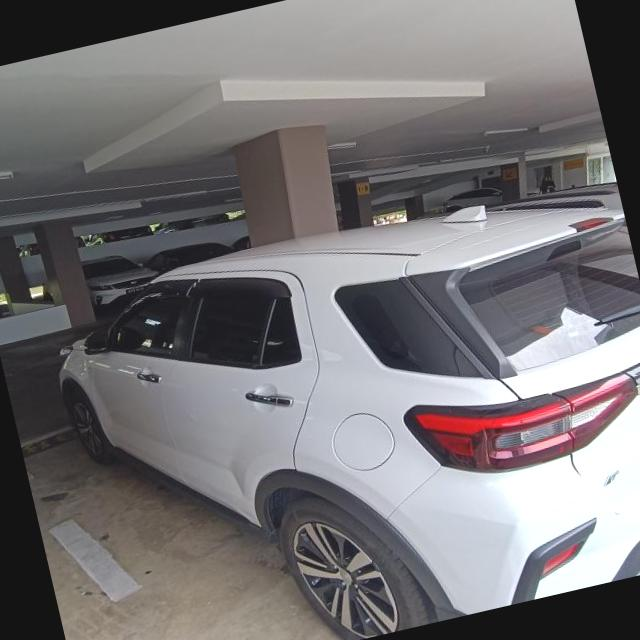PeroduaAtiva: (36, 162, 640, 640)
